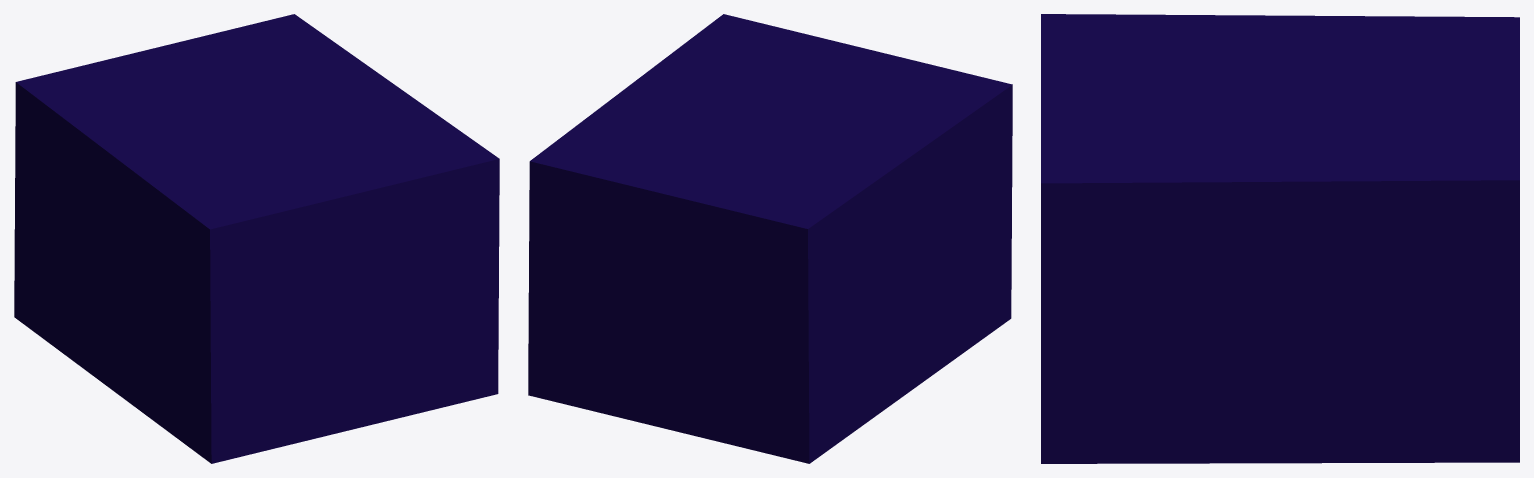
Rendered from tower.glb.
The picture shows the model from 3 angles, left to right: view 1: azimuth 30°, elevation 25°; view 2: azimuth 150°, elevation 25°; view 3: azimuth 270°, elevation 25°; orthographic projection. The views are drawn at different scales.
Visible parts, largest first — view 1: cabinet, turret; view 2: cabinet, turret; view 3: cabinet, turret.
Part boxes in pixels (x1,y1,x2,y2): cabinet: [14, 14, 499, 463]; turret: [43, 26, 472, 220]; cabinet: [528, 14, 1012, 463]; turret: [557, 23, 985, 217]; cabinet: [1041, 14, 1519, 463]; turret: [1054, 26, 1493, 170].
Size of the model in its own units: 0.1549 by 0.12 by 0.185.
